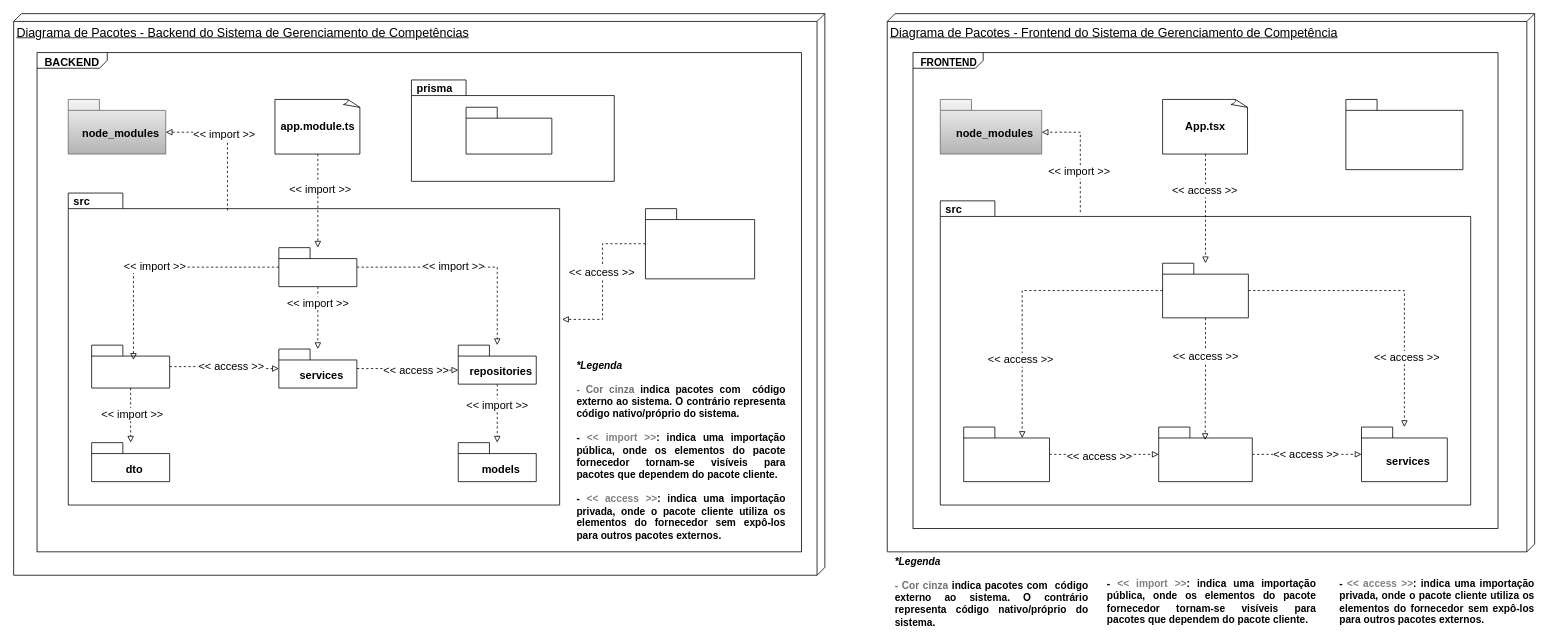
This 1548x641 diagram has some shape labels left out. The centre of each missing label's shape, as x and y in pixels:
components: (x=1006, y=454)
controllers: (x=130, y=366)
hooks: (x=1205, y=454)
migrations: (x=508, y=130)
modules: (x=317, y=267)
pages: (x=1205, y=290)
public: (x=1404, y=134)
test: (x=700, y=243)
